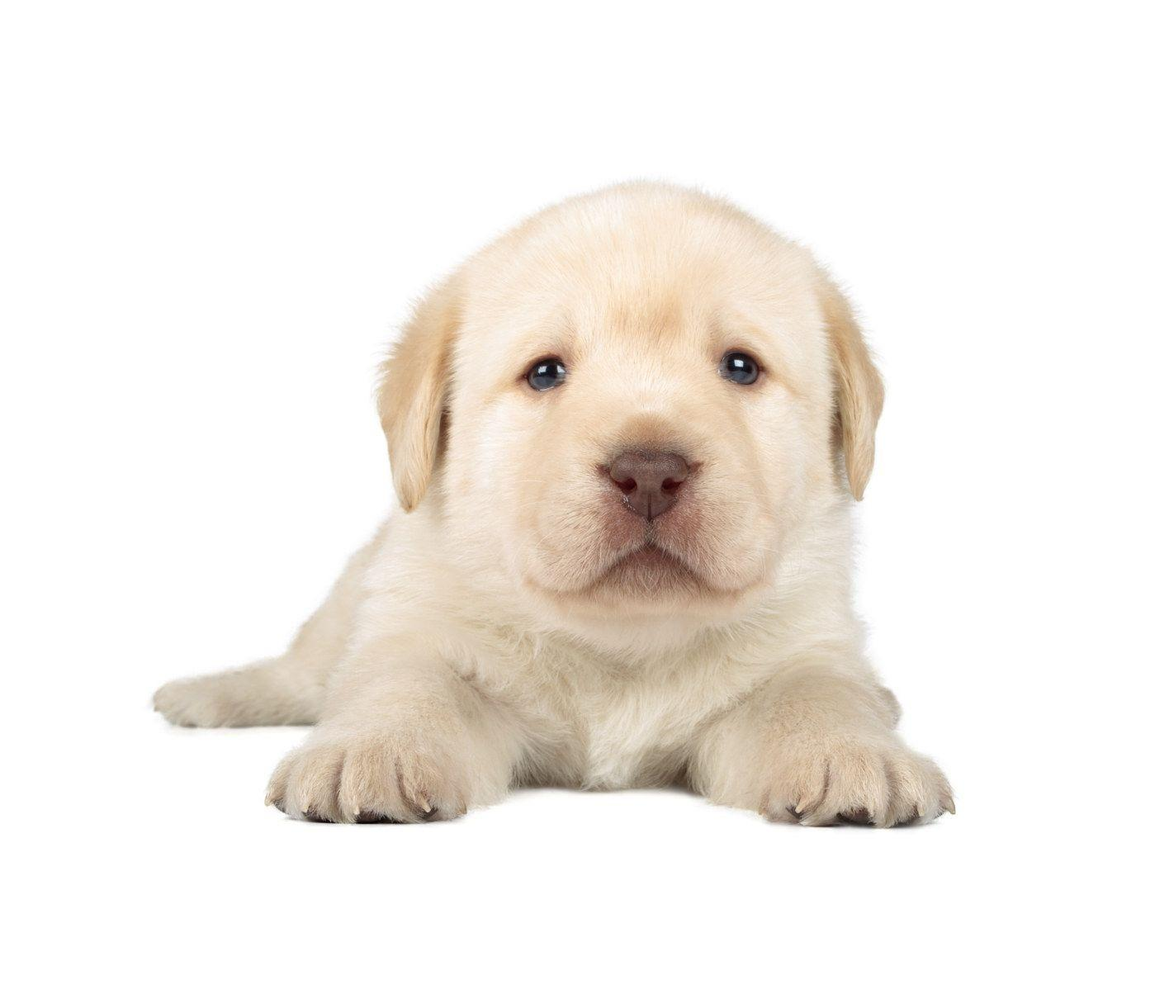puppy-dog: (149, 177, 958, 831)
